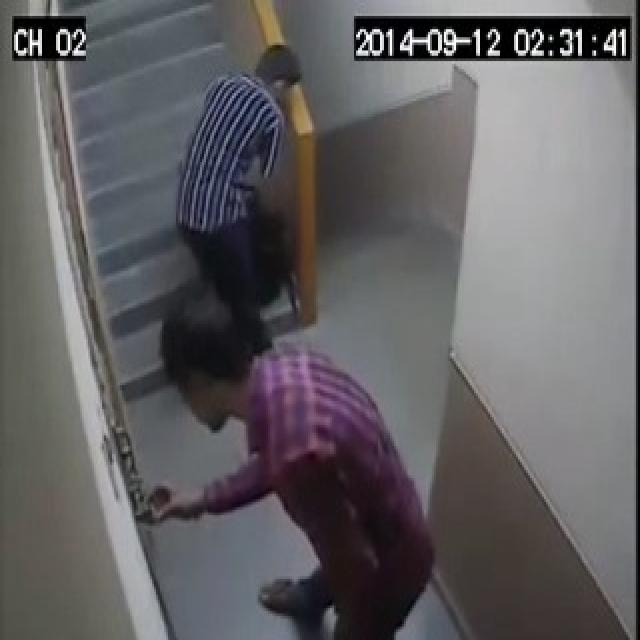thief: (152, 292, 458, 638), (185, 48, 308, 292)
